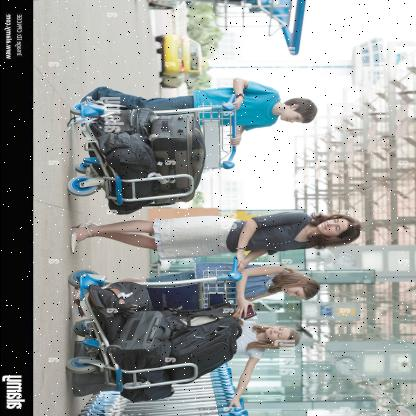airport-trolley: (59, 256, 246, 400), (64, 89, 240, 219)
